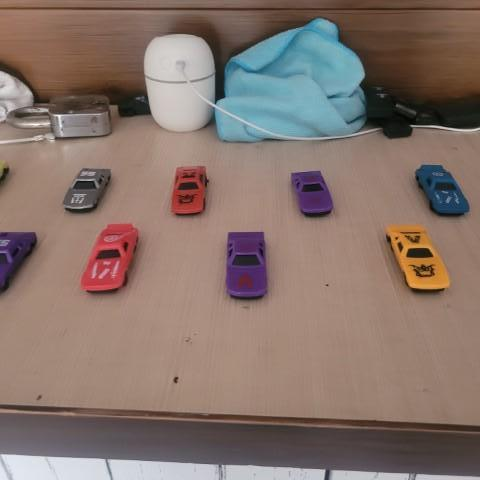car: (385, 220, 450, 291), (77, 224, 136, 292), (225, 233, 270, 302), (414, 165, 473, 216), (64, 164, 113, 213), (288, 169, 335, 217), (169, 163, 208, 216)
